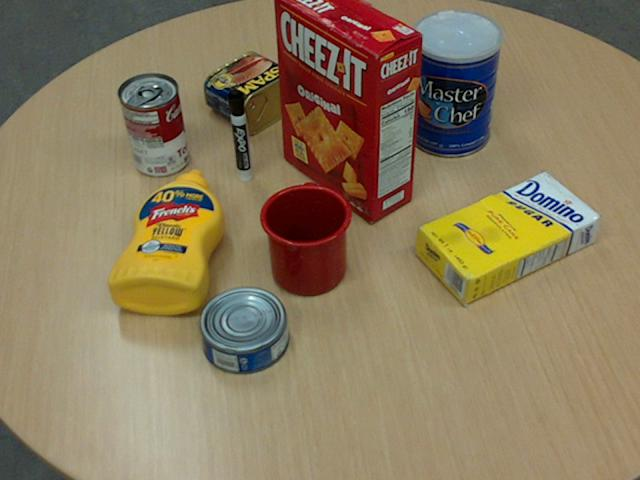cracker_box: (274, 0, 422, 219)
gelatin_box: (315, 45, 387, 106)
large_marker: (227, 89, 251, 182)
master_chef_can: (408, 10, 501, 157)
mug: (258, 183, 351, 295)
mustard_bottle: (107, 169, 224, 313)
potted_meat_can: (204, 51, 305, 133)
sugar_box: (414, 172, 600, 306)
tomato_soup_can: (118, 71, 188, 175)
tuna_fish_can: (198, 287, 288, 374)
